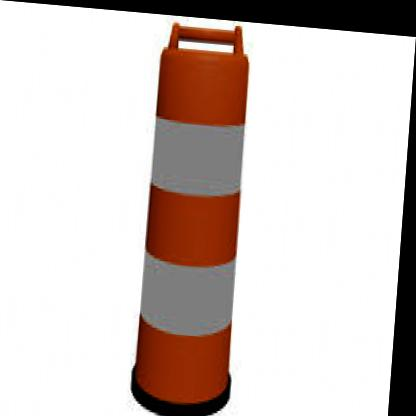obstacle: (137, 24, 262, 410)
